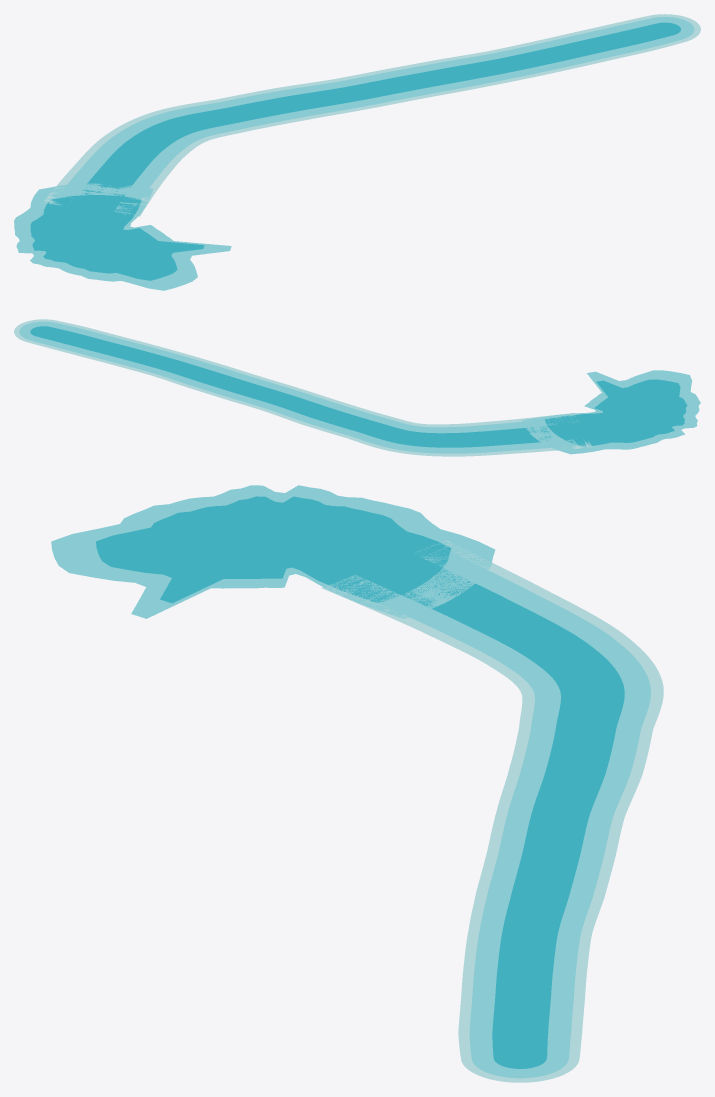
The model's file is StreamWater.glb.
The picture shows the model from 3 angles, top to bottom: view 1: azimuth 30°, elevation 25°; view 2: azimuth 150°, elevation 25°; view 3: azimuth 270°, elevation 25°; orthographic projection. The views are drawn at different scales.
Visible parts, largest first — view 1: StreamWater__Water_Mid, StreamWater__Water_Light, PoolWater__Water_Mid, StreamWater__Water_Edge, PoolWater__Water_Light; view 2: StreamWater__Water_Mid, StreamWater__Water_Light, PoolWater__Water_Mid, StreamWater__Water_Edge, PoolWater__Water_Light; view 3: StreamWater__Water_Mid, StreamWater__Water_Light, PoolWater__Water_Mid, StreamWater__Water_Edge, PoolWater__Water_Light.
Part boxes in pixels (x1,y1,x2,y2): StreamWater__Water_Mid: (73, 22, 680, 211); StreamWater__Water_Light: (51, 17, 694, 214); PoolWater__Water_Mid: (30, 195, 204, 280); StreamWater__Water_Edge: (44, 14, 700, 216); PoolWater__Water_Light: (14, 183, 231, 290); StreamWater__Water_Mid: (30, 326, 585, 447); StreamWater__Water_Light: (19, 321, 590, 453); PoolWater__Water_Mid: (545, 379, 687, 446); StreamWater__Water_Edge: (14, 319, 592, 456); PoolWater__Water_Light: (522, 370, 700, 454); StreamWater__Water_Mid: (356, 554, 624, 1068); StreamWater__Water_Light: (334, 545, 650, 1078); PoolWater__Water_Mid: (96, 496, 451, 603); StreamWater__Water_Edge: (321, 540, 663, 1082); PoolWater__Water_Light: (51, 485, 495, 618).
Bounding box in the file's own units: 559 × 0 × 242.
